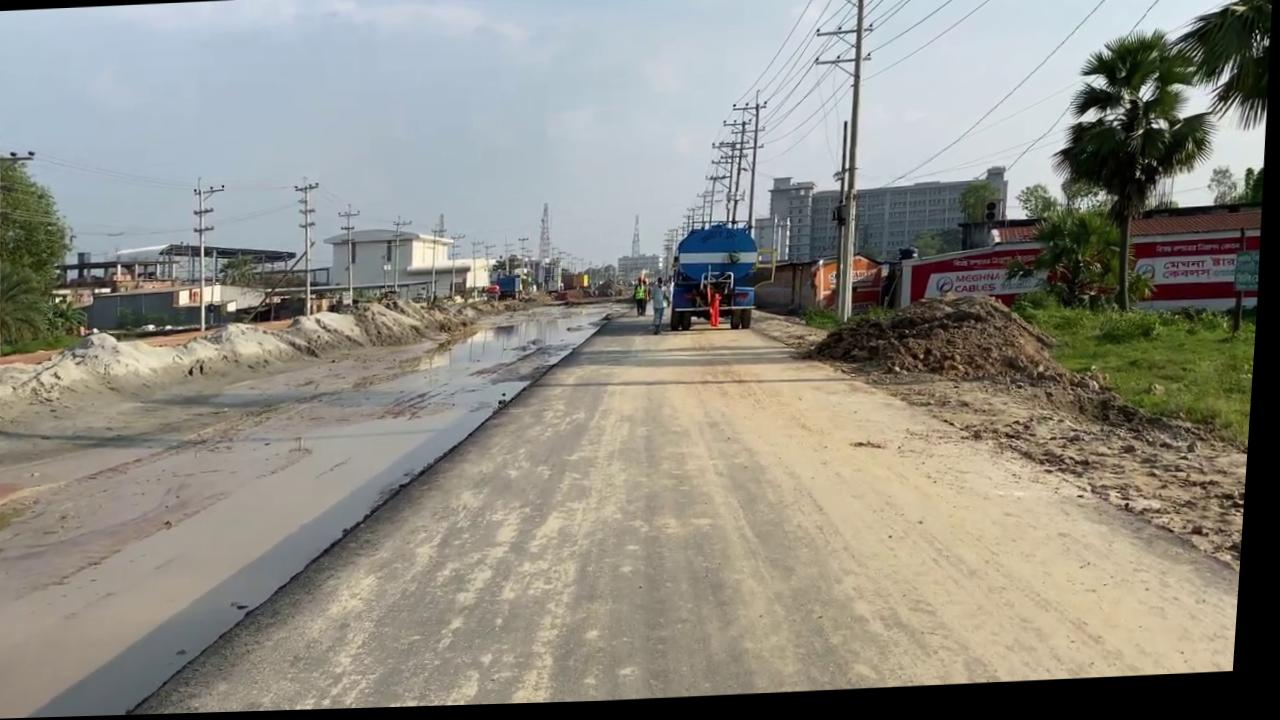Garbage: (805, 293, 1076, 402)
Pole: (834, 0, 875, 328), (188, 177, 229, 333), (290, 179, 324, 318)
Sidewalk: (0, 300, 636, 720)
Stuck-water: (712, 297, 728, 333)
Traffic-cone: (987, 205, 1002, 228)
Traffic-sign: (1041, 31, 1228, 322), (0, 146, 86, 355), (1162, 0, 1275, 142)
Tree: (668, 93, 777, 337), (671, 224, 767, 336), (811, 256, 890, 318)
